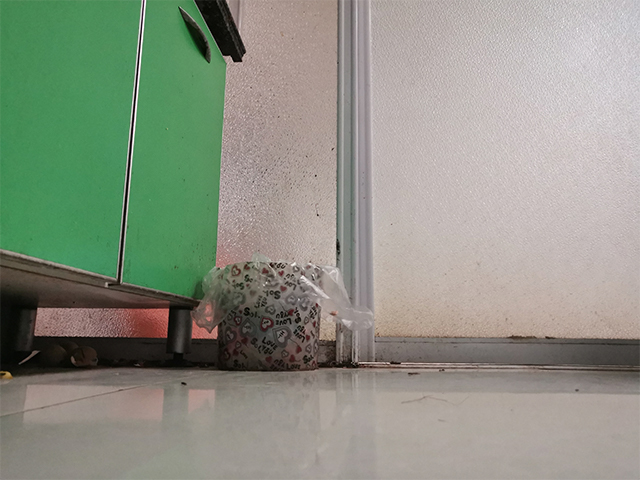cabinet: (1, 1, 248, 373)
trashcan: (207, 258, 324, 373)
